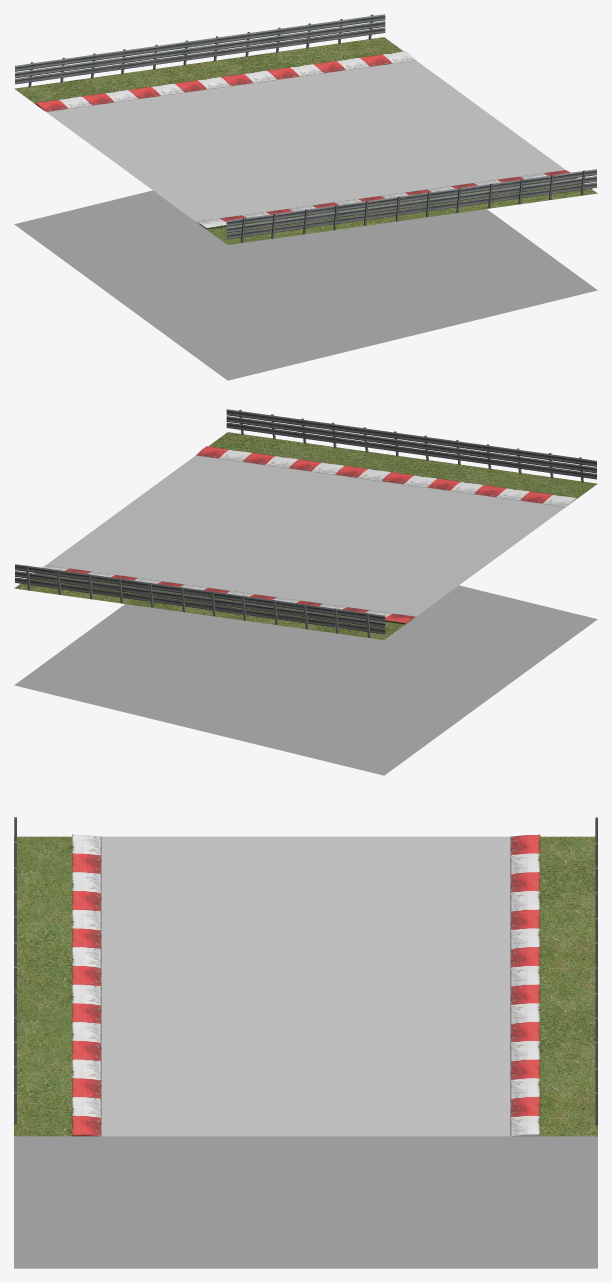
File: Track_Gradient_2Metre_Mobile.fbx
3 views of the same model, one above another, from view 1: azimuth 30°, elevation 25°; view 2: azimuth 150°, elevation 25°; view 3: azimuth 270°, elevation 25° (orthographic). The views are drawn at different scales.
Parts seen in each view (by area): view 1: Snap_Plane_Invisible, Road, Grass, Rail_B, Rail_A, Curb_B, Carb_A; view 2: Snap_Plane_Invisible, Road, Grass, Rail_B, Rail_A, Carb_A, Curb_B; view 3: Road, Snap_Plane_Invisible, Grass, Curb_B, Carb_A, Rail_A, Rail_B.
Boxes of the visible parts, bbox=[...] form: Snap_Plane_Invisible: bbox=[14, 190, 597, 380]; Road: bbox=[46, 60, 565, 221]; Grass: bbox=[14, 37, 597, 244]; Rail_B: bbox=[15, 14, 385, 87]; Rail_A: bbox=[226, 169, 596, 242]; Curb_B: bbox=[35, 51, 415, 111]; Carb_A: bbox=[196, 170, 575, 229]; Snap_Plane_Invisible: bbox=[14, 585, 597, 775]; Road: bbox=[46, 455, 565, 616]; Grass: bbox=[14, 432, 597, 639]; Rail_B: bbox=[15, 564, 385, 637]; Rail_A: bbox=[226, 409, 596, 482]; Carb_A: bbox=[196, 446, 576, 506]; Curb_B: bbox=[38, 565, 415, 624]; Road: bbox=[101, 836, 510, 1136]; Snap_Plane_Invisible: bbox=[14, 1136, 597, 1268]; Grass: bbox=[14, 836, 597, 1136]; Curb_B: bbox=[510, 834, 540, 1136]; Carb_A: bbox=[72, 834, 101, 1136]; Rail_A: bbox=[14, 817, 16, 1124]; Rail_B: bbox=[595, 817, 597, 1124].
Size of the model in its own units: 20.01 by 8.22 by 20.
